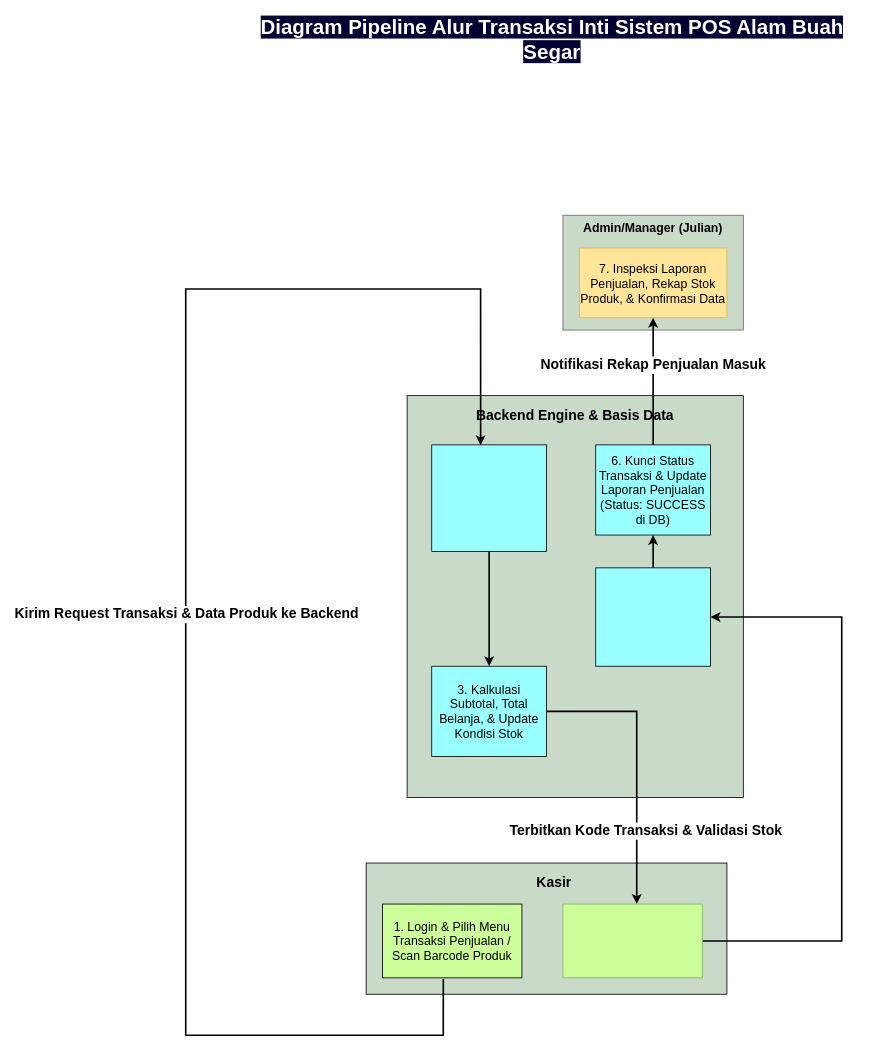
This 886x1056 diagram has some shape labels left out. Each missing label, with the box of its shape:
2. Validasi Data Transaksi & Hak Akses (Cek Stok Produk, Harga, dan Role User): (431, 444, 547, 551)
4. Input Nominal Uang Bayar, Validasi Kembalian, & Cetak Struk Penjualan: (562, 903, 702, 978)
5. Simpan Data Transaksi, Detail Penjualan, & Potong Stok di Database: (595, 567, 711, 666)
